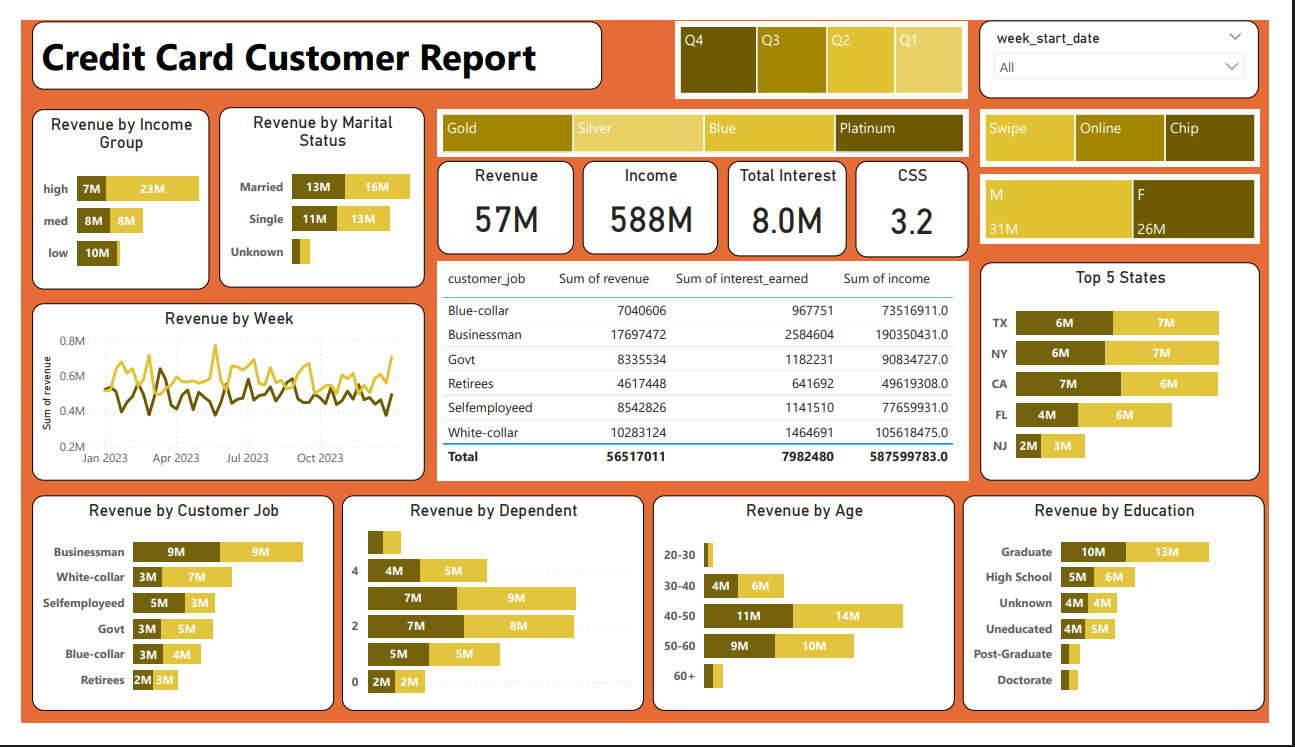

What the dashboard file says about the page in this screenshot:
{"tool":"powerbi","page":{"name":"cc_customer","canvas":[1280,720],"ordinal":2},"visuals":[{"type":"barChart","title":"Revenue by Income Group","fields":{"Y":["Sum(public cc_detail.revenue)"],"Category":["public cust_detail.income_group"],"Series":["public cust_detail.gender"]},"box":[11,90.6,182.5,185.2],"z":0},{"type":"tableEx","fields":{"Values":["public cust_detail.customer_job","Sum(public cc_detail.revenue)","Sum(public cc_detail.interest_earned)","Sum(public cust_detail.income)"]},"box":[426.8,247,544.8,225],"z":1000},{"type":"card","title":"Revenue","fields":{"Values":["Sum(public cc_detail.revenue)"]},"box":[426.8,144.1,140,96.1],"z":2000},{"type":"card","title":"Income","fields":{"Values":["Sum(public cust_detail.income)"]},"box":[576.3,144.1,138.6,96.1],"z":3000},{"type":"card","title":"Total Interest","fields":{"Values":["Sum(public cc_detail.interest_earned)"]},"box":[724.5,144.1,122.1,97.4],"z":4000},{"type":"card","title":"CSS","fields":{"Values":["Avg(public cust_detail.cust_satisfaction_score)"]},"box":[856.3,144.1,115.3,98.8],"z":5000},{"type":"slicer","fields":{"Values":["public cc_detail.week_start_date"]},"box":[983.2,0,287.1,79.6],"z":6000},{"type":"treemap","fields":{"Group":["public cc_detail.qtr"],"Values":["Avg(public cc_detail.client_num)"]},"box":[670.8,1.2,300.4,78.4],"z":7000},{"type":"treemap","fields":{"Values":["Avg(public cc_detail.client_num)"],"Group":["public cc_detail.use_chip"]},"box":[983.9,90.6,286.8,59],"z":8000},{"type":"treemap","fields":{"Values":["Avg(public cc_detail.client_num)"],"Details":["public cc_detail.card_category"]},"box":[426.8,90.6,544.8,49.4],"z":9000},{"type":"barChart","title":"Revenue by Age","fields":{"Y":["Sum(public cc_detail.revenue)"],"Category":["public cust_detail.age_roup"],"Series":["public cust_detail.gender"]},"box":[647.7,487.1,310.1,220.9],"z":10000},{"type":"textbox","box":[10.9,1.2,585.1,70],"z":11000},{"type":"lineChart","title":"Revenue by Week","fields":{"Y":["Sum(public cc_detail.revenue)"],"Series":["public cust_detail.gender"],"Category":["public cc_detail.week_start_date.Variation.Date Hierarchy.Year","public cc_detail.week_start_date.Variation.Date Hierarchy.Month","public cc_detail.week_start_date.Variation.Date Hierarchy.Day"]},"box":[11,289.5,403.4,182.5],"z":12000},{"type":"treemap","fields":{"Group":["public cust_detail.gender"],"Values":["Sum(public cc_detail.revenue)"]},"box":[983.9,157.8,286.8,71.4],"z":13000},{"type":"barChart","title":"Revenue by Customer Job","fields":{"Y":["Sum(public cc_detail.revenue)"],"Category":["public cust_detail.customer_job"],"Series":["public cust_detail.gender"]},"box":[11,487.1,310.1,220.9],"z":14000},{"type":"barChart","title":"Revenue by Education","fields":{"Y":["Sum(public cc_detail.revenue)"],"Category":["public cust_detail.education_level"],"Series":["public cust_detail.gender"]},"box":[966,487.1,310.1,220.9],"z":15000},{"type":"barChart","title":"Top 5 States","fields":{"Y":["Sum(public cc_detail.revenue)"],"Category":["public cust_detail.state_cd"],"Series":["public cust_detail.gender"]},"box":[983.9,248.4,286.8,223.7],"z":16000},{"type":"barChart","title":"Revenue by Dependent","fields":{"Y":["Sum(public cc_detail.revenue)"],"Category":["public cust_detail.dependent_count"],"Series":["public cust_detail.gender"]},"box":[329.3,487.1,310.1,220.9],"z":17000},{"type":"barChart","title":"Revenue by Marital Status","fields":{"Y":["Sum(public cc_detail.revenue)"],"Category":["public cust_detail.marital_status"],"Series":["public cust_detail.gender"]},"box":[203.1,89.2,211.3,185.2],"z":18000}]}

Visuals, with their boxes in screenshot pixels (x1, y1, x2, y2), scaled from the page's 1280x720 canvas onto the 1295x747 screenshot:
"Revenue by Income Group" barChart: BBox(11, 94, 196, 286)
tableEx - public cust_detail.customer_job x Sum(public cc_detail.revenue): BBox(432, 256, 983, 490)
"Revenue" card: BBox(432, 150, 573, 249)
"Income" card: BBox(583, 150, 723, 249)
"Total Interest" card: BBox(733, 150, 857, 251)
"CSS" card: BBox(866, 150, 983, 252)
slicer - public cc_detail.week_start_date: BBox(995, 0, 1285, 83)
treemap - public cc_detail.qtr x Avg(public cc_detail.client_num): BBox(679, 1, 983, 83)
treemap - Avg(public cc_detail.client_num) x public cc_detail.use_chip: BBox(995, 94, 1286, 155)
treemap - Avg(public cc_detail.client_num) x public cc_detail.card_category: BBox(432, 94, 983, 145)
"Revenue by Age" barChart: BBox(655, 505, 969, 735)
textbox: BBox(11, 1, 603, 74)
"Revenue by Week" lineChart: BBox(11, 300, 419, 490)
treemap - public cust_detail.gender x Sum(public cc_detail.revenue): BBox(995, 164, 1286, 238)
"Revenue by Customer Job" barChart: BBox(11, 505, 325, 735)
"Revenue by Education" barChart: BBox(977, 505, 1291, 735)
"Top 5 States" barChart: BBox(995, 258, 1286, 490)
"Revenue by Dependent" barChart: BBox(333, 505, 647, 735)
"Revenue by Marital Status" barChart: BBox(205, 93, 419, 285)
